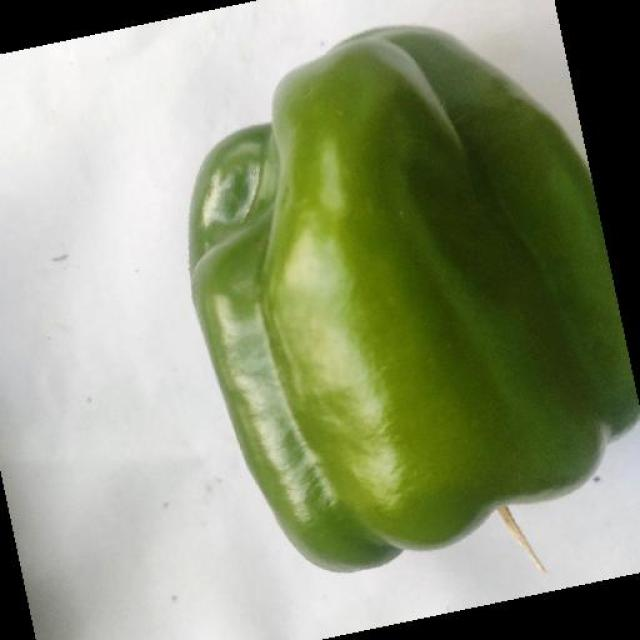Fresh_Capsicum: (190, 26, 640, 516)
